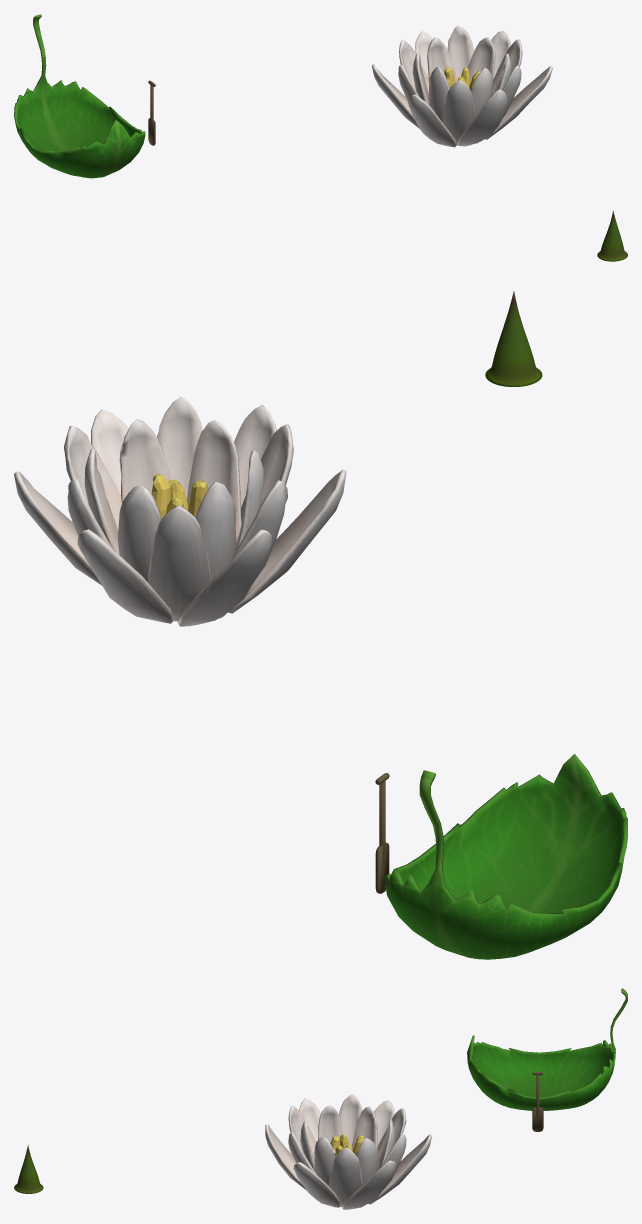
File: PondExtraObjects.glb
The picture shows the model from 3 angles, top to bottom: view 1: azimuth 30°, elevation 25°; view 2: azimuth 150°, elevation 25°; view 3: azimuth 270°, elevation 25°; orthographic projection. The views are drawn at different scales.
Visible parts, largest first — view 1: LilyFlower, LeafBoat, Thorn, Paddle; view 2: LilyFlower, LeafBoat, Thorn, Paddle; view 3: LilyFlower, LeafBoat, Thorn, Paddle.
Part boxes in pixels (box(x1,y1,x2,y2)): LilyFlower: box(372, 25, 552, 147); LeafBoat: box(14, 14, 145, 178); Thorn: box(597, 210, 627, 261); Paddle: box(148, 80, 155, 145); LilyFlower: box(14, 397, 346, 626); LeafBoat: box(384, 754, 627, 959); Thorn: box(485, 291, 542, 386); Paddle: box(375, 773, 389, 893); LilyFlower: box(265, 1094, 432, 1209); LeafBoat: box(467, 988, 627, 1110); Thorn: box(14, 1145, 43, 1193); Paddle: box(532, 1071, 543, 1131).
Size of the model in its own units: 5.99 by 1.73 by 8.4.
7 materials, 4 textured.
